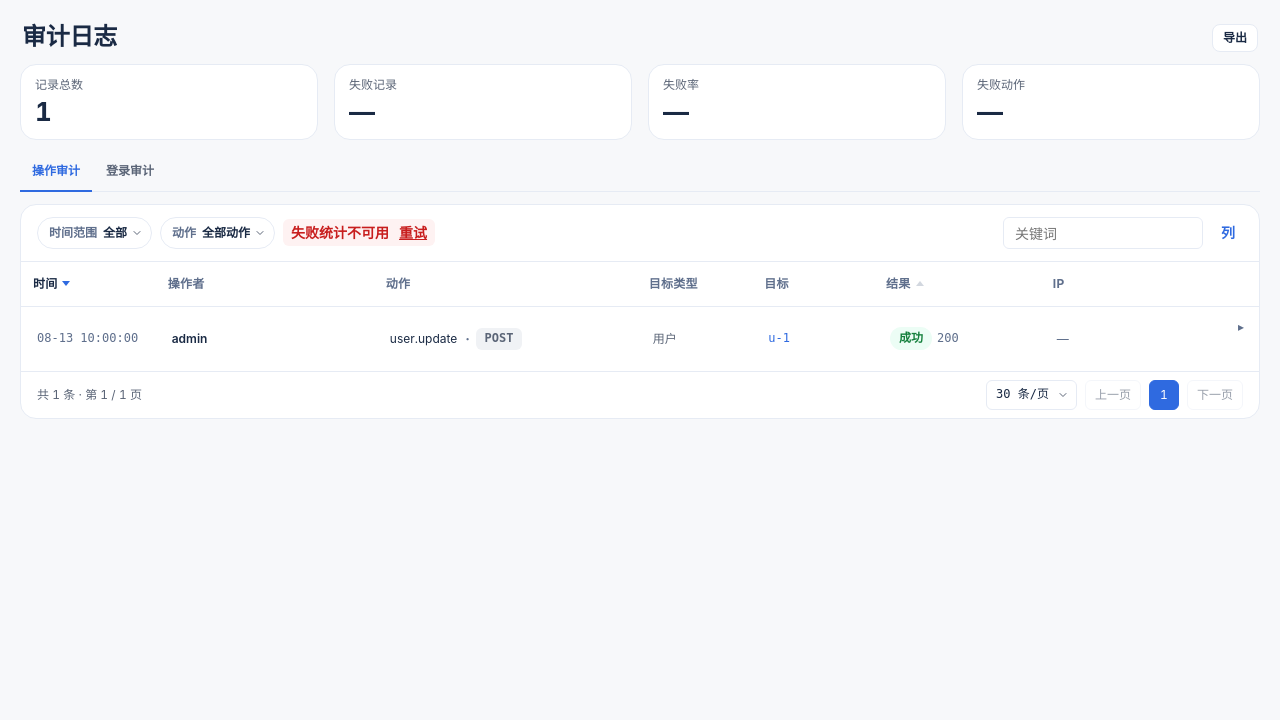
Test: AuditLogs 动作快筛 + 负载美化（2026-10-05 重设计） › 展开行负载美化：紧凑 JSON 两格缩进（与执行日志同款 prettyPayload）
Click the row with class "log-tr".
click(88, 338)  # box [21, 306, 1259, 371]
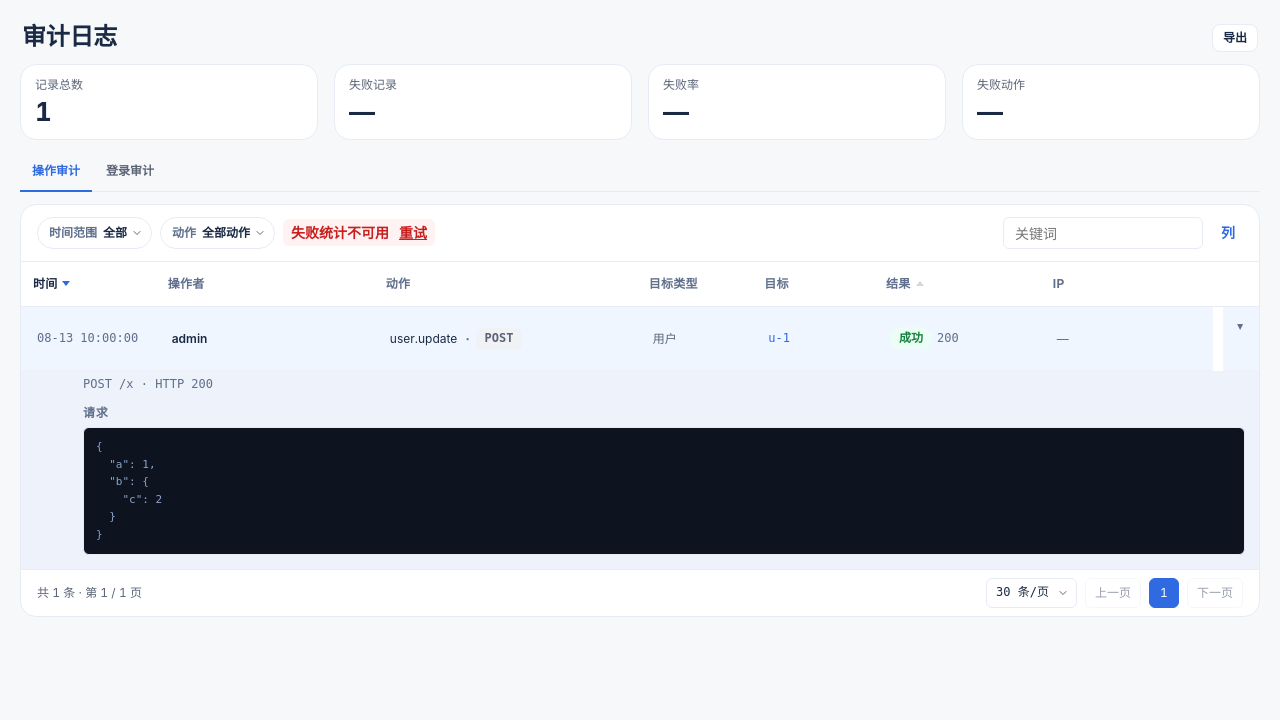
Now the text "{ \"a\": 1, \"b\": { \"c\": 2 } }" is shown, box [83, 427, 1245, 555]
